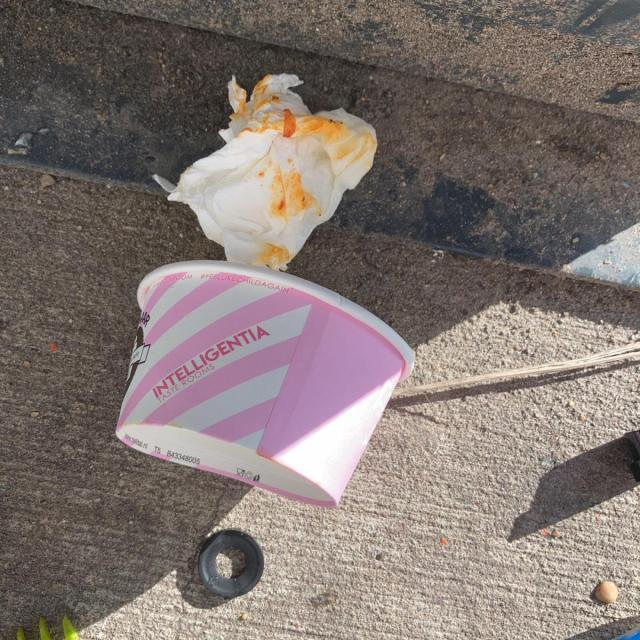Paper: (113, 258, 417, 512), (150, 69, 378, 274)
